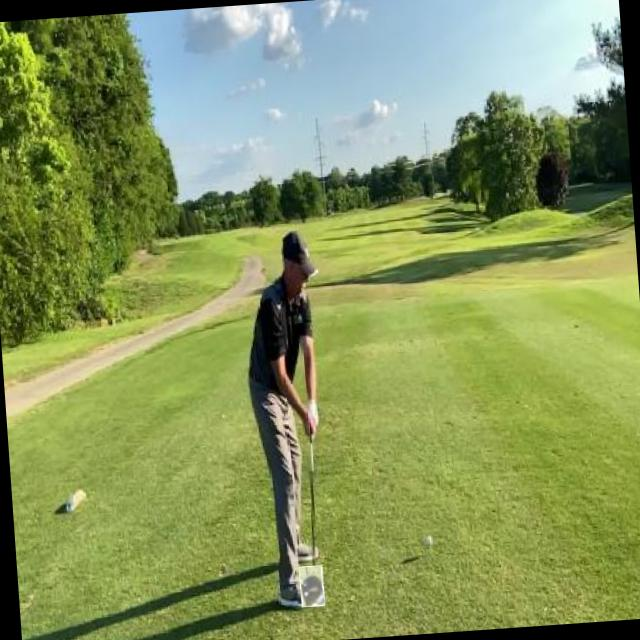club head: (298, 564, 325, 606)
